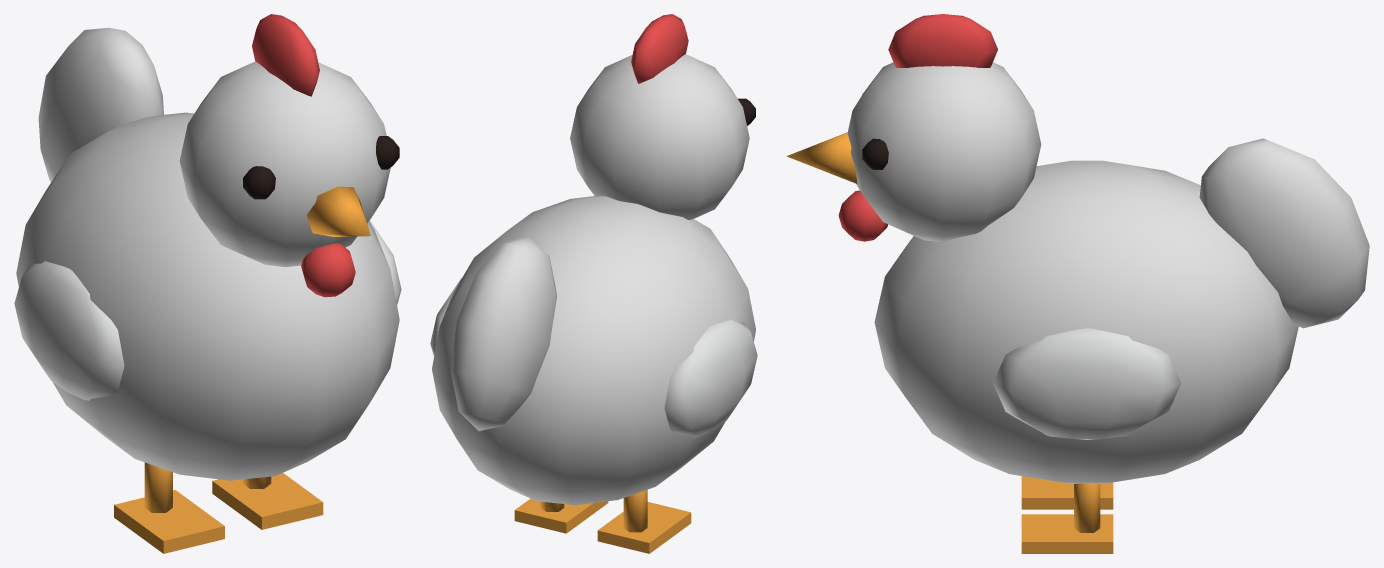
Rendered from chicken.glb.
3 views of the same model, side by side, from view 1: azimuth 30°, elevation 25°; view 2: azimuth 150°, elevation 25°; view 3: azimuth 270°, elevation 25° (orthographic). The views are drawn at different scales.
Parts seen in each view (by area): view 1: BodyMesh, HeadMesh, LegL, LegR; view 2: BodyMesh, HeadMesh, LegL, LegR; view 3: BodyMesh, HeadMesh, LegR, LegL.
Boxes of the visible parts, box(x1,y1,x2,y2) form: BodyMesh: box(14, 27, 401, 480); HeadMesh: box(179, 14, 399, 297); LegL: box(114, 462, 224, 553); LegR: box(212, 473, 323, 529); BodyMesh: box(430, 196, 757, 505); HeadMesh: box(570, 14, 755, 219); LegL: box(597, 489, 691, 553); LegR: box(514, 498, 608, 533); BodyMesh: box(874, 138, 1369, 484); HeadMesh: box(786, 14, 1041, 241); LegR: box(1021, 483, 1113, 553); LegL: box(1021, 476, 1113, 509).
Size of the model in its own units: 0.5313 by 0.85 by 0.892.
